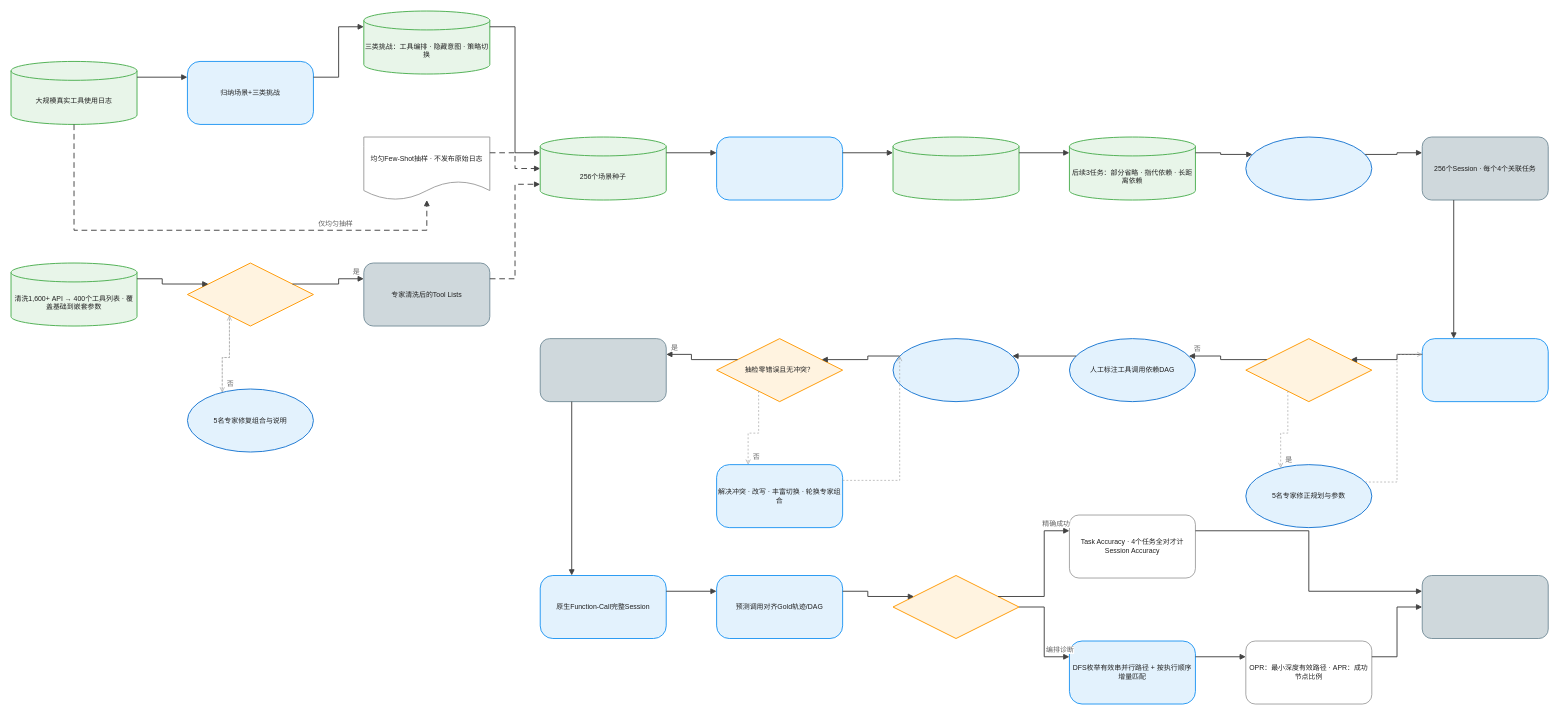
This 1560x716 diagram has some shape labels left out. Here are the shapes that lost their labels. From the top down, the centre of each, then its label:
At (x=779, y=168): "多样化句法·风格·背景·长度·难度".
At (x=955, y=168): "首任务：单工具 · 多步/多工具 · 无工具 · 需澄清".
At (x=1308, y=168): "专家选择并细化".
At (x=250, y=294): "工具组合与API说明合理？".
At (x=602, y=370): "4轮QC：62→78→86→94→100% · 256会话×4=1,024任务".
At (x=955, y=370): "每轮随机复核20%".
At (x=1308, y=370): "发现工具调用问题？".
At (x=1484, y=370): "执行候选轨迹 + 自动检查幻觉、类型错误与冗余调用".
At (x=955, y=607): "指标族？".
At (x=1484, y=607): "任务/会话准确率 + OPR/APR".
